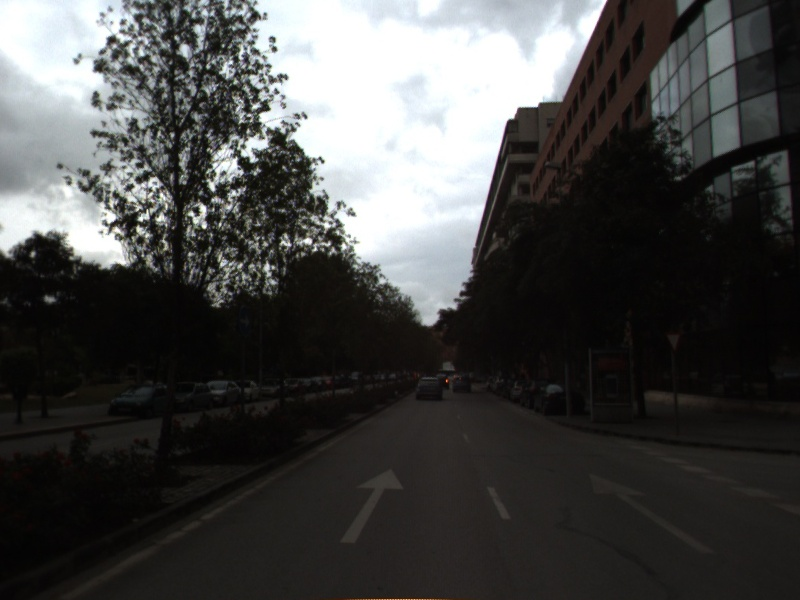STRAIGHT: (586, 472, 718, 556), (338, 465, 407, 545)
